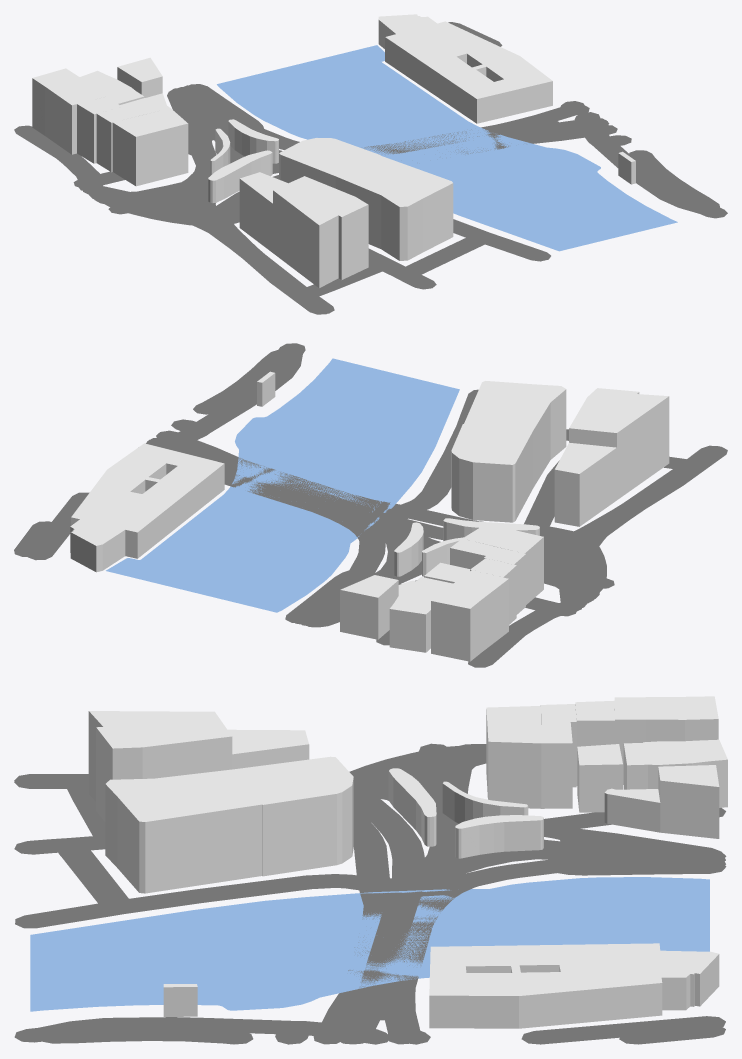
File: niederdorf90.fbx
3 views of the same model, one above another, from view 1: azimuth 30°, elevation 25°; view 2: azimuth 150°, elevation 25°; view 3: azimuth 270°, elevation 25° (orthographic). The views are drawn at different scales.
Visible parts, largest first — view 1: AreaWater__ChIJAAAAAAAAAAARt_MOV5U_PQ0_, Coop_Supermarkt_Zurich_Bahnhofbrucke__ChIJa_0cCggKkEcRThxc4E, ExtrudedStructure__ChIJsYCZ9KegmkcR7Ifr_MVwflc_, ExtrudedStructure__ChIJIUygHwgKkEcRisdTwN0Karc_, ExtrudedStructure__ChIJV2qP4qegmkcR8_6G_h4a_OE_, ExtrudedStructure__ChIJS3EV9qegmkcRkzMX5HnVx6Y_, ExtrudedStructure__ChIJq1g6IAgKkEcRIlEMG4QR4WE_, Segment__ChIJkz46eXMKkEcR0KngF60PP8Y_, Segment:_Weinbergstrasse__ChIJ_YV62AkKkEcRjrltgJyRIJg_, ExtrudedStructure__ChIJsYCZ9KegmkcRg1fCW1DzZRg_, Segment:_Bahnhofquai__ChIJcXisawgKkEcRfHyjfoSm5X4_, Central__ChIJ1cEW_qegmkcRQs4SqBELBjc_ (+26 smaller); view 2: AreaWater__ChIJAAAAAAAAAAARt_MOV5U_PQ0_, Coop_Supermarkt_Zurich_Bahnhofbrucke__ChIJa_0cCggKkEcRThxc4E, ExtrudedStructure__ChIJS3EV9qegmkcRkzMX5HnVx6Y_, ExtrudedStructure__ChIJsYCZ9KegmkcR7Ifr_MVwflc_, Segment__ChIJkz46eXMKkEcR0KngF60PP8Y_, ExtrudedStructure__ChIJsYCZ9KegmkcRg1fCW1DzZRg_, ExtrudedStructure__ChIJIUygHwgKkEcRisdTwN0Karc_, ExtrudedStructure__ChIJPbGI4qegmkcR1NfxhGWaKAc_, ExtrudedStructure__ChIJhadGBqigmkcRcHNpjo6noEU_, Segment:_Bahnhofbrucke__ChIJO_2BDQgKkEcRFtilTl0Kf_E_, ExtrudedStructure__ChIJV2qP4qegmkcR8_6G_h4a_OE_, Segment:_Bahnhofbrucke__ChIJkZVPDAgKkEcRwobsGzCk4us_ (+28 smaller); view 3: AreaWater__ChIJAAAAAAAAAAARt_MOV5U_PQ0_, Coop_Supermarkt_Zurich_Bahnhofbrucke__ChIJa_0cCggKkEcRThxc4E, ExtrudedStructure__ChIJIUygHwgKkEcRisdTwN0Karc_, ExtrudedStructure__ChIJS3EV9qegmkcRkzMX5HnVx6Y_, ExtrudedStructure__ChIJsYCZ9KegmkcR7Ifr_MVwflc_, Segment__ChIJkz46eXMKkEcR0KngF60PP8Y_, ExtrudedStructure__ChIJV2qP4qegmkcR8_6G_h4a_OE_, Segment:_Bahnhofquai__ChIJcXisawgKkEcRfHyjfoSm5X4_, ExtrudedStructure__ChIJhadGBqigmkcRcHNpjo6noEU_, Segment:_Bahnhofbrucke__ChIJkZVPDAgKkEcRwobsGzCk4us_, Segment:_Neumuhlequai__ChIJF2RRGQgKkEcRsKH7fTn155o_, Central__ChIJqwTS_qegmkcRu9NdUtgbcVI_ (+44 smaller).
Part boxes in pixels (bbox=[...]): AreaWater__ChIJAAAAAAAAAAARt_MOV5U_PQ0_: bbox=[217, 45, 677, 251]; Coop_Supermarkt_Zurich_Bahnhofbrucke__ChIJa_0cCggKkEcRThxc4E: bbox=[378, 14, 552, 123]; ExtrudedStructure__ChIJsYCZ9KegmkcR7Ifr_MVwflc_: bbox=[273, 176, 368, 288]; ExtrudedStructure__ChIJIUygHwgKkEcRisdTwN0Karc_: bbox=[335, 155, 453, 252]; ExtrudedStructure__ChIJV2qP4qegmkcR8_6G_h4a_OE_: bbox=[112, 108, 188, 186]; ExtrudedStructure__ChIJS3EV9qegmkcRkzMX5HnVx6Y_: bbox=[279, 138, 380, 188]; ExtrudedStructure__ChIJq1g6IAgKkEcRIlEMG4QR4WE_: bbox=[381, 188, 422, 260]; Segment__ChIJkz46eXMKkEcR0KngF60PP8Y_: bbox=[210, 118, 609, 314]; Segment:_Weinbergstrasse__ChIJ_YV62AkKkEcRjrltgJyRIJg_: bbox=[188, 215, 334, 313]; ExtrudedStructure__ChIJsYCZ9KegmkcRg1fCW1DzZRg_: bbox=[239, 172, 287, 252]; Segment:_Bahnhofquai__ChIJcXisawgKkEcRfHyjfoSm5X4_: bbox=[574, 112, 714, 213]; Central__ChIJ1cEW_qegmkcRQs4SqBELBjc_: bbox=[208, 150, 272, 202]; AreaWater__ChIJAAAAAAAAAAARt_MOV5U_PQ0_: bbox=[106, 358, 459, 612]; Coop_Supermarkt_Zurich_Bahnhofbrucke__ChIJa_0cCggKkEcRThxc4E: bbox=[70, 443, 224, 572]; ExtrudedStructure__ChIJS3EV9qegmkcRkzMX5HnVx6Y_: bbox=[451, 424, 533, 522]; ExtrudedStructure__ChIJsYCZ9KegmkcR7Ifr_MVwflc_: bbox=[569, 388, 669, 499]; Segment__ChIJkz46eXMKkEcR0KngF60PP8Y_: bbox=[147, 437, 727, 547]; ExtrudedStructure__ChIJsYCZ9KegmkcRg1fCW1DzZRg_: bbox=[554, 442, 616, 526]; ExtrudedStructure__ChIJIUygHwgKkEcRisdTwN0Karc_: bbox=[464, 381, 550, 487]; ExtrudedStructure__ChIJPbGI4qegmkcR1NfxhGWaKAc_: bbox=[431, 590, 481, 661]; ExtrudedStructure__ChIJhadGBqigmkcRcHNpjo6noEU_: bbox=[340, 575, 398, 639]; Segment:_Bahnhofbrucke__ChIJO_2BDQgKkEcRFtilTl0Kf_E_: bbox=[166, 435, 415, 516]; ExtrudedStructure__ChIJV2qP4qegmkcR8_6G_h4a_OE_: bbox=[462, 523, 543, 604]; Segment:_Bahnhofbrucke__ChIJkZVPDAgKkEcRwobsGzCk4us_: bbox=[224, 471, 383, 544]; AreaWater__ChIJAAAAAAAAAAARt_MOV5U_PQ0_: bbox=[30, 877, 709, 1011]; Coop_Supermarkt_Zurich_Bahnhofbrucke__ChIJa_0cCggKkEcRThxc4E: bbox=[429, 943, 719, 1028]; ExtrudedStructure__ChIJIUygHwgKkEcRisdTwN0Karc_: bbox=[117, 769, 262, 893]; ExtrudedStructure__ChIJS3EV9qegmkcRkzMX5HnVx6Y_: bbox=[235, 756, 353, 876]; ExtrudedStructure__ChIJsYCZ9KegmkcR7Ifr_MVwflc_: bbox=[88, 711, 232, 821]; Segment__ChIJkz46eXMKkEcR0KngF60PP8Y_: bbox=[14, 774, 424, 1044]; ExtrudedStructure__ChIJV2qP4qegmkcR8_6G_h4a_OE_: bbox=[486, 706, 541, 808]; Segment:_Bahnhofquai__ChIJcXisawgKkEcRfHyjfoSm5X4_: bbox=[40, 1017, 390, 1044]; ExtrudedStructure__ChIJhadGBqigmkcRcHNpjo6noEU_: bbox=[658, 765, 719, 838]; Segment:_Bahnhofbrucke__ChIJkZVPDAgKkEcRwobsGzCk4us_: bbox=[382, 879, 479, 1039]; Segment:_Neumuhlequai__ChIJF2RRGQgKkEcRsKH7fTn155o_: bbox=[109, 874, 388, 913]; Central__ChIJqwTS_qegmkcRu9NdUtgbcVI_: bbox=[455, 815, 543, 858].
Bounding box in the file's own units: 21704 × 2800 × 21751.
